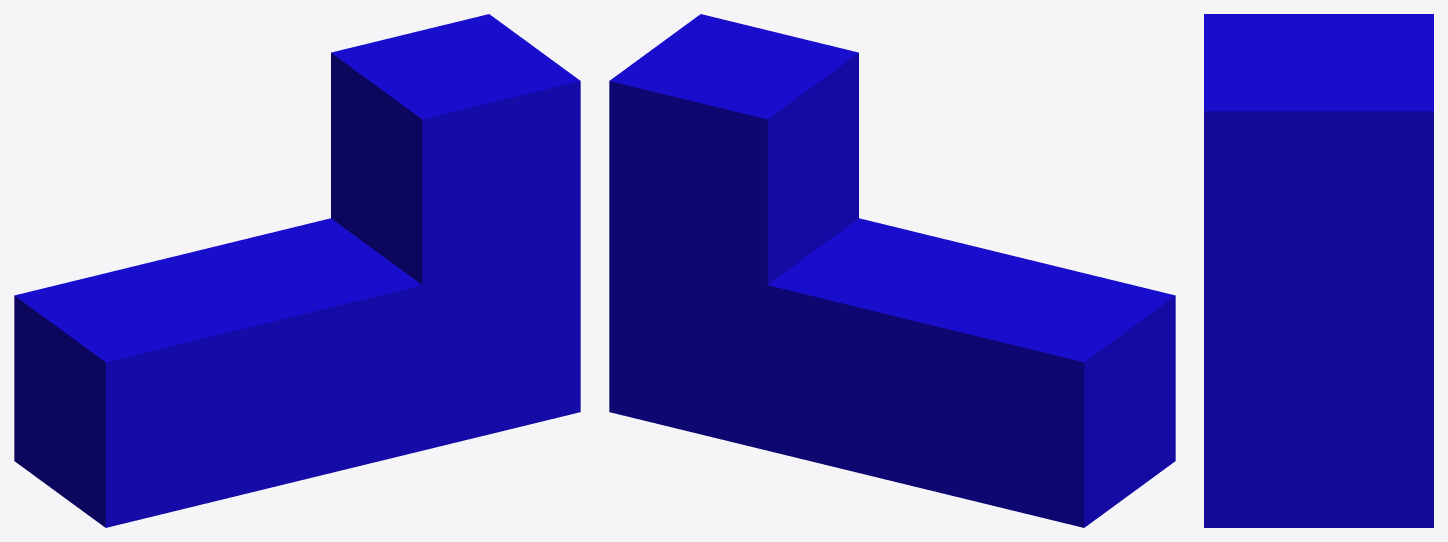
The model's file is JpieceBlue.gltf.
3 renders of one model, left to right at view 1: azimuth 30°, elevation 25°; view 2: azimuth 150°, elevation 25°; view 3: azimuth 270°, elevation 25°, orthographic. The views are drawn at different scales.
Visible parts, largest first — view 1: J piece; view 2: J piece; view 3: J piece.
Boxes of the visible parts, box(x1,y1,x2,y2) form: J piece: box(14, 14, 580, 527); J piece: box(609, 14, 1175, 527); J piece: box(1204, 14, 1433, 527).
Size of the model in its own units: 6 by 4 by 2.
